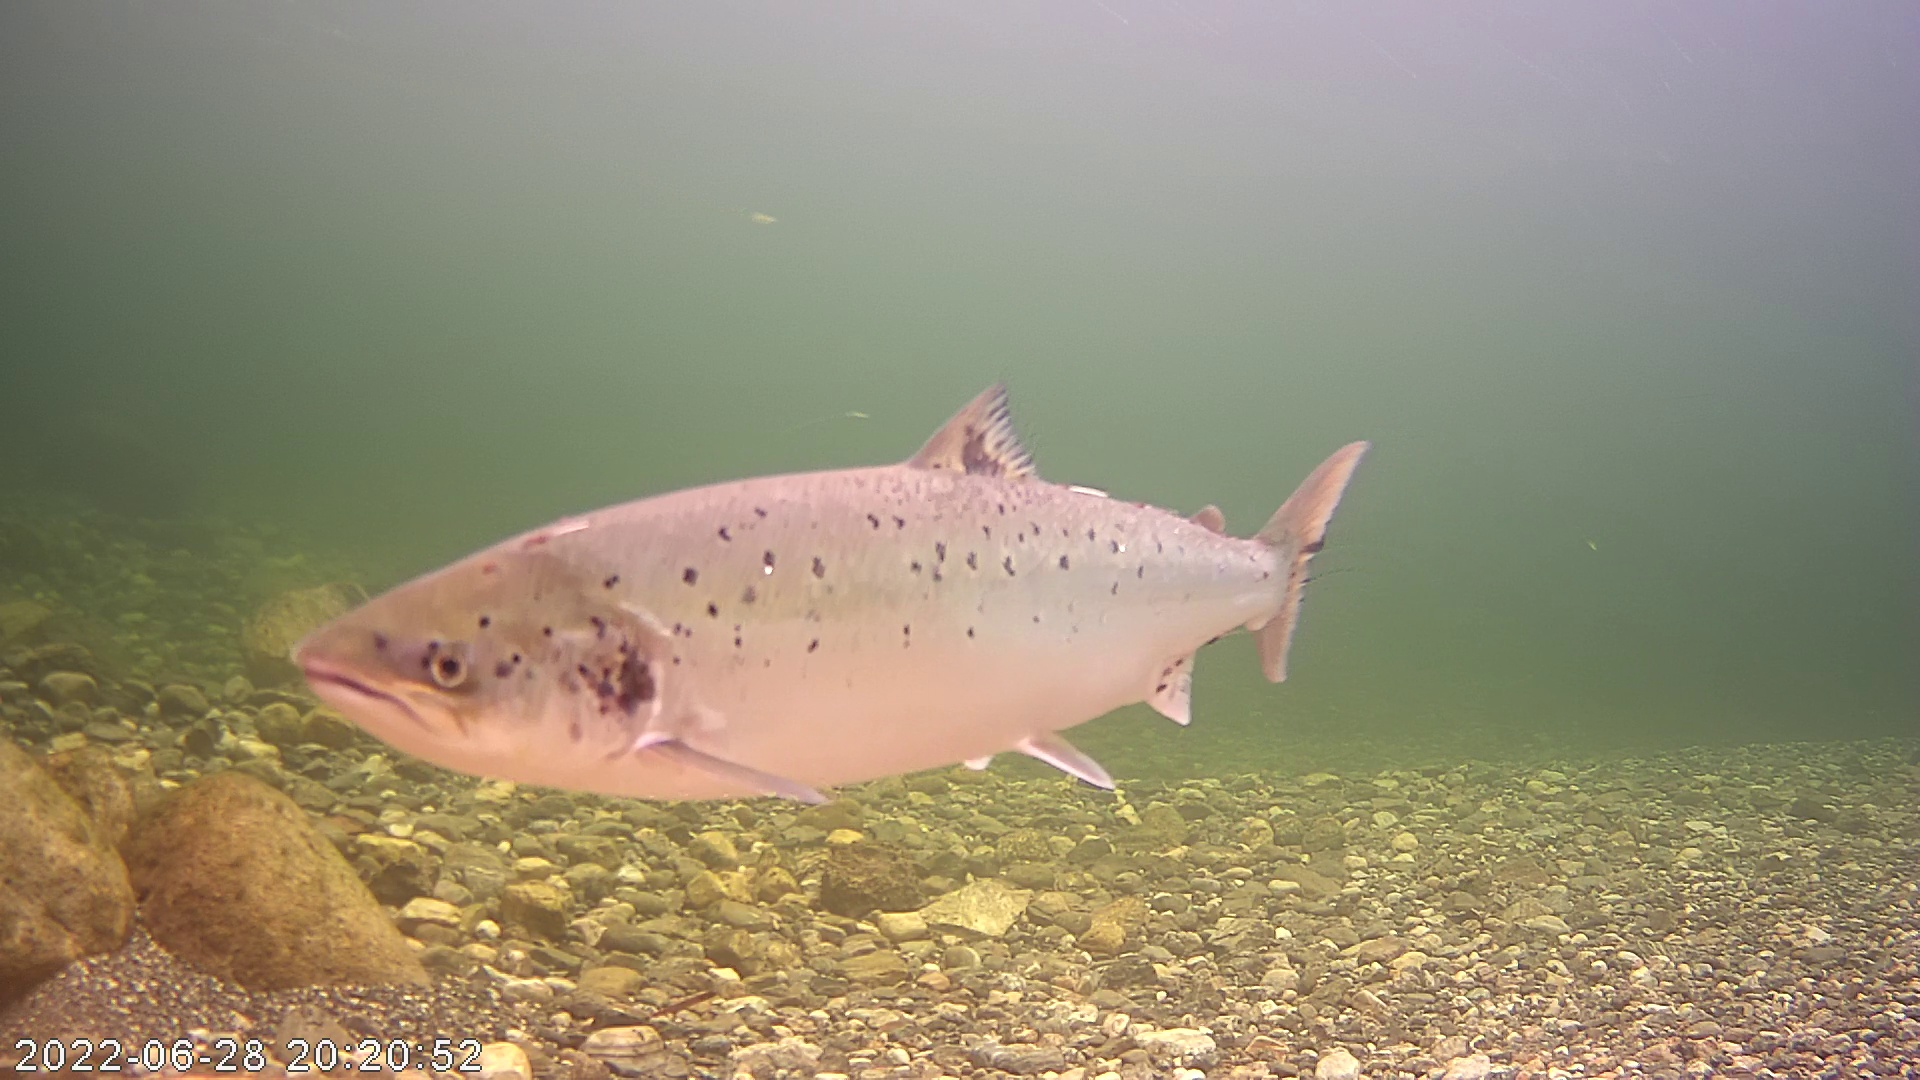salmon: (272, 338, 1353, 820)
